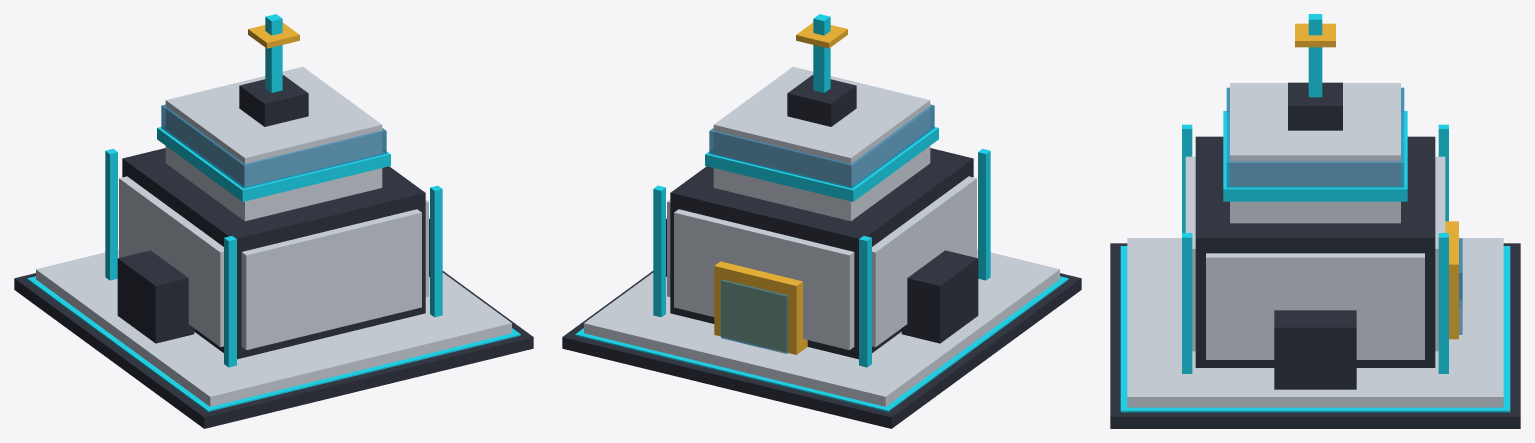
The picture shows the model from 3 angles, left to right: view 1: azimuth 30°, elevation 25°; view 2: azimuth 150°, elevation 25°; view 3: azimuth 270°, elevation 25°; orthographic projection. The views are drawn at different scales.
Bounding box in the file's own units: 12 × 10.5 × 12.
